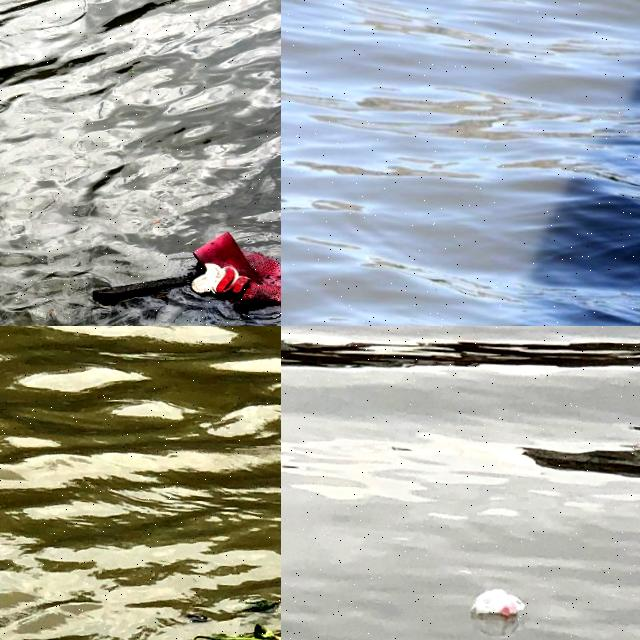water-hyacinth: (171, 600, 282, 640), (1, 327, 68, 371)
